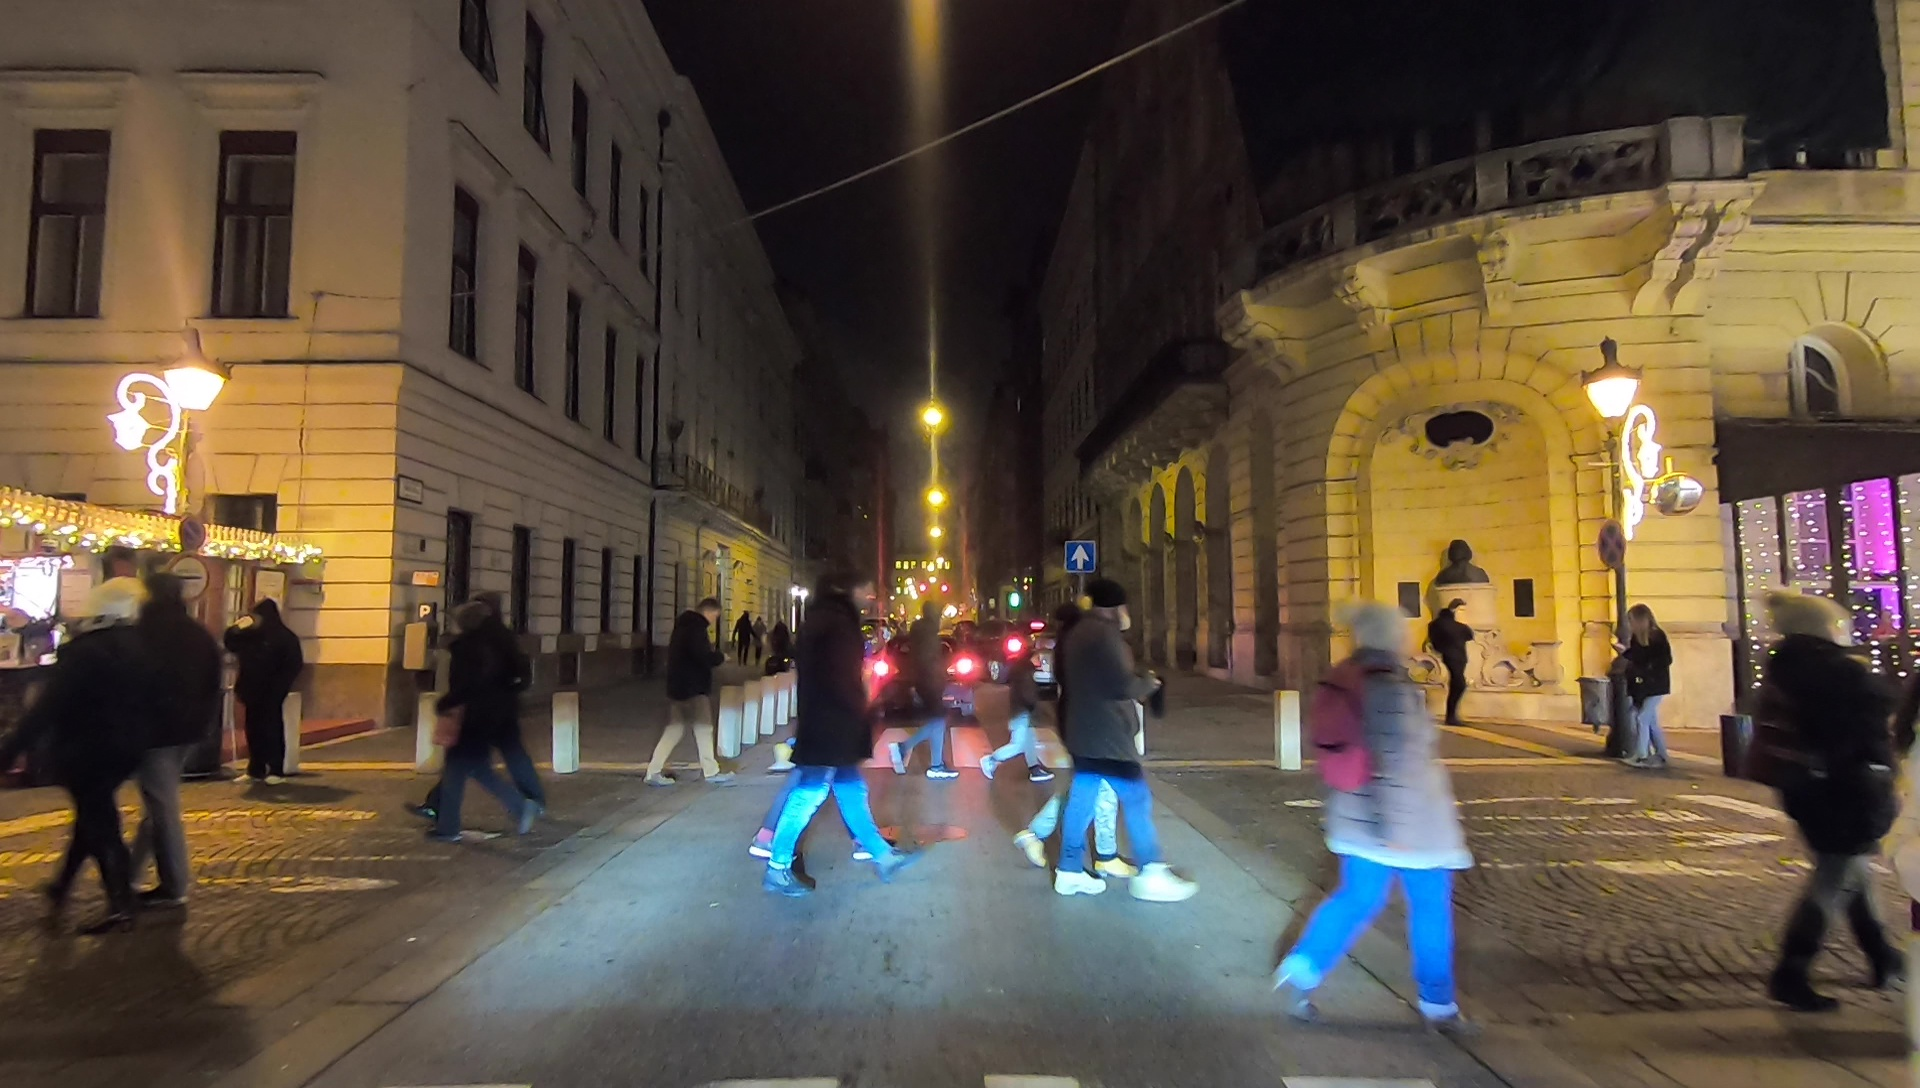person: (1291, 589, 1475, 1037), (1732, 587, 1904, 1010), (751, 576, 908, 899), (1049, 593, 1201, 902), (1019, 602, 1145, 887), (49, 582, 139, 917), (423, 600, 534, 850), (126, 574, 197, 919), (449, 595, 543, 810), (225, 595, 308, 791), (645, 602, 730, 789), (1602, 608, 1678, 771), (895, 599, 956, 787), (989, 626, 1056, 787), (1417, 593, 1480, 728), (730, 610, 752, 663), (752, 610, 765, 661)
